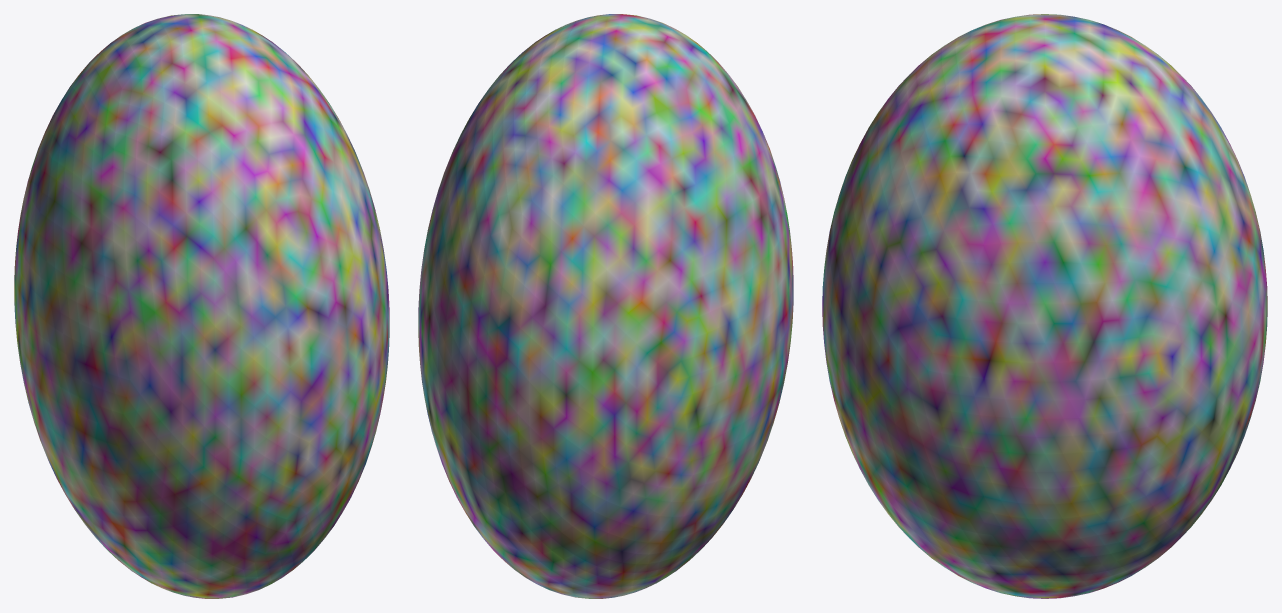
Rendered from pipeline-sphere.glb.
3 renders of one model, left to right at view 1: azimuth 30°, elevation 25°; view 2: azimuth 150°, elevation 25°; view 3: azimuth 270°, elevation 25°, orthographic.
Parts seen in each view (by area): view 1: geometry_0; view 2: geometry_0; view 3: geometry_0.
Boxes of the visible parts, x1,y1,x2,y2 form: geometry_0: (14, 14, 389, 598); geometry_0: (418, 14, 793, 598); geometry_0: (822, 14, 1267, 598).
Bounding box in the file's own units: 0.1714 × 0.3 × 0.2143.
